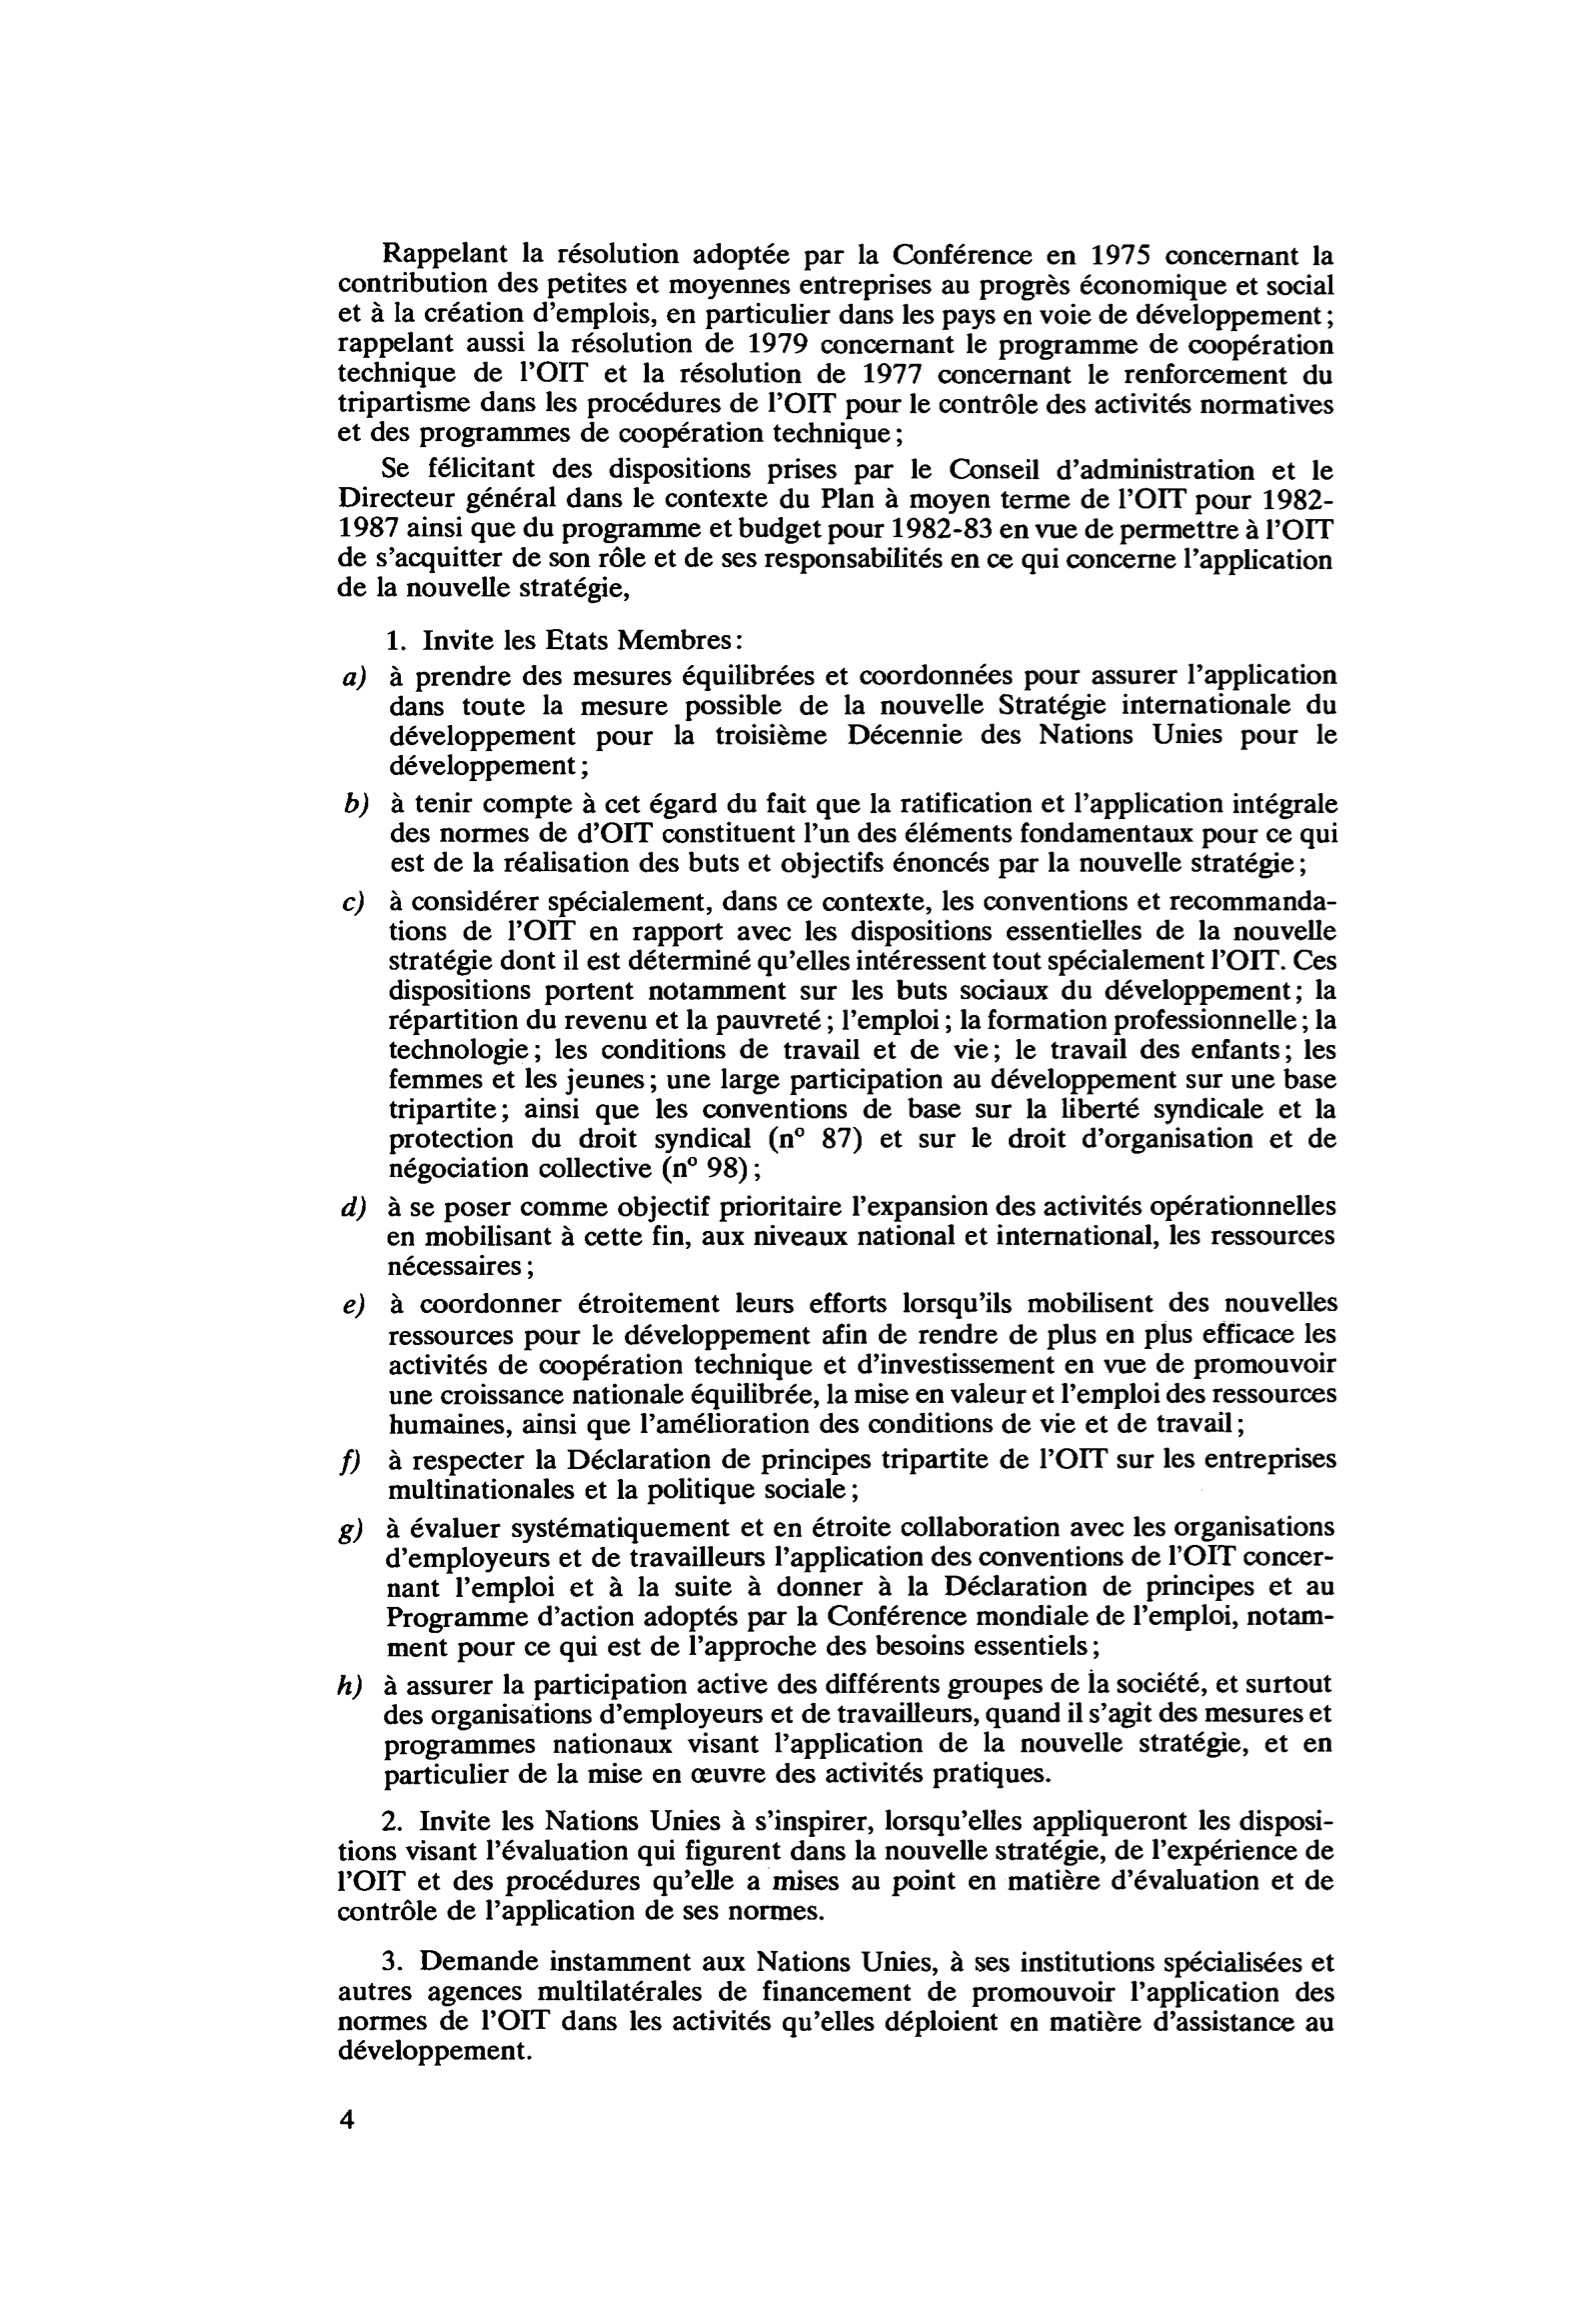MainZone-ListItem: (326, 886, 1349, 1182), (323, 1287, 1340, 1440), (326, 1512, 1342, 1662), (321, 1941, 1351, 2080), (325, 1801, 1346, 1929), (328, 1668, 1342, 1792), (325, 659, 1347, 782), (328, 784, 1342, 880), (332, 1189, 1346, 1285), (328, 1441, 1342, 1510), (340, 619, 754, 658)
MainZone-P: (326, 231, 1342, 447), (321, 451, 1346, 608)
NumberingZone: (332, 2101, 365, 2143)
